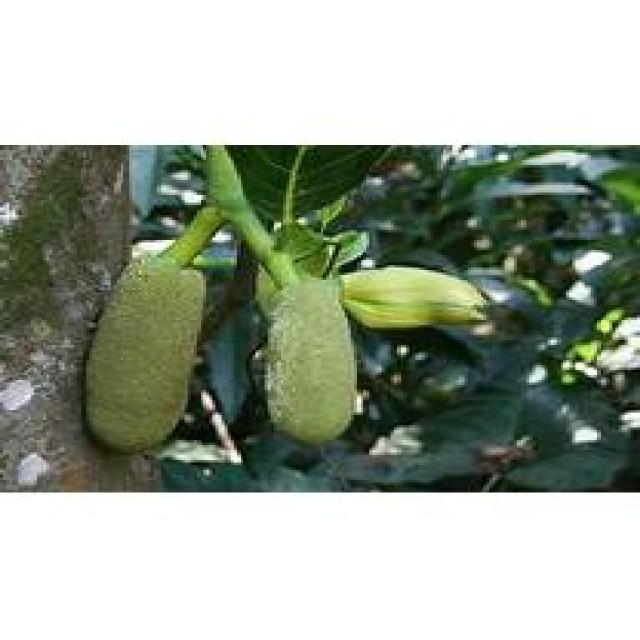Fruit: (64, 230, 228, 470)
